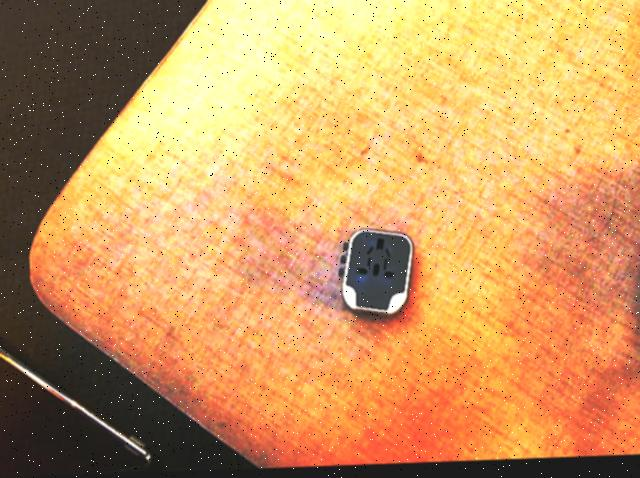adapter: (337, 229, 413, 321)
